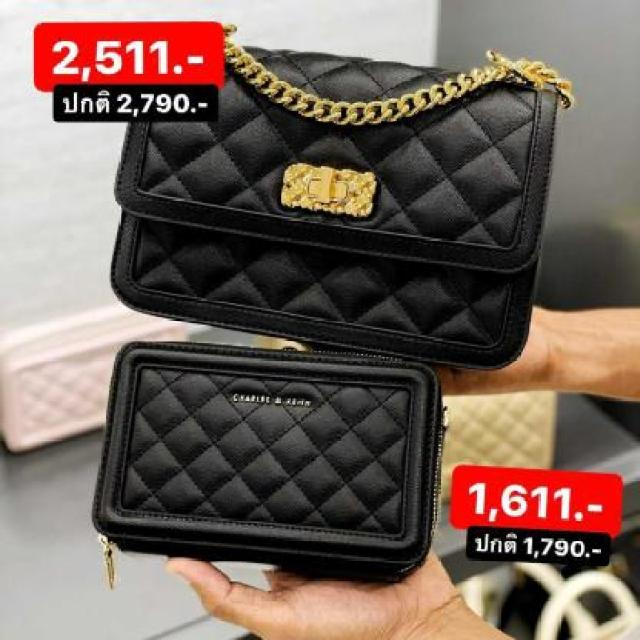Bag: (97, 34, 575, 394), (86, 334, 460, 600)
